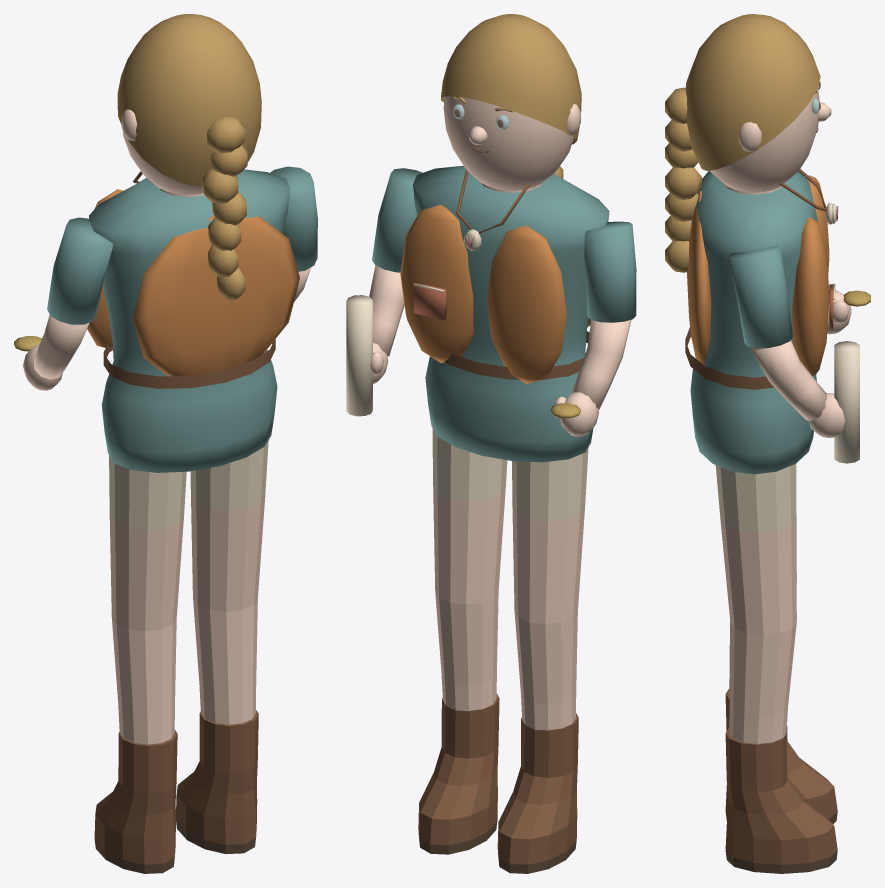
File: SM_NPC_CORAL.glb
3 views of the same model, side by side, from view 1: azimuth 30°, elevation 25°; view 2: azimuth 150°, elevation 25°; view 3: azimuth 270°, elevation 25° (orthographic). The views are drawn at different scales.
Parts seen in each view (by area): view 1: SM_NPC_CORAL_BODY, SM_NPC_CORAL_LEG_L, SM_NPC_CORAL_LEG_R, SM_NPC_CORAL_HAIR, SM_NPC_CORAL_ARM_L, SM_NPC_CORAL_ARM_R, SM_NPC_CORAL_HEAD; view 2: SM_NPC_CORAL_BODY, SM_NPC_CORAL_LEG_L, SM_NPC_CORAL_LEG_R, SM_NPC_CORAL_HAIR, SM_NPC_CORAL_ARM_L, SM_NPC_CORAL_ARM_R, SM_NPC_CORAL_HEAD; view 3: SM_NPC_CORAL_BODY, SM_NPC_CORAL_LEG_R, SM_NPC_CORAL_HAIR, SM_NPC_CORAL_ARM_R, SM_NPC_CORAL_HEAD, SM_NPC_CORAL_LEG_L, SM_NPC_CORAL_ARM_L.
Boxes of the visible parts, x1=… form: SM_NPC_CORAL_BODY: x1=87, y1=169, x2=299, y2=472; SM_NPC_CORAL_LEG_L: x1=94, y1=455, x2=186, y2=873; SM_NPC_CORAL_LEG_R: x1=176, y1=440, x2=268, y2=853; SM_NPC_CORAL_HAIR: x1=117, y1=14, x2=261, y2=299; SM_NPC_CORAL_ARM_L: x1=14, y1=217, x2=112, y2=390; SM_NPC_CORAL_ARM_R: x1=270, y1=166, x2=317, y2=301; SM_NPC_CORAL_HEAD: x1=121, y1=92, x2=260, y2=194; SM_NPC_CORAL_BODY: x1=400, y1=165, x2=609, y2=462; SM_NPC_CORAL_LEG_L: x1=497, y1=447, x2=588, y2=873; SM_NPC_CORAL_LEG_R: x1=418, y1=428, x2=507, y2=854; SM_NPC_CORAL_HAIR: x1=441, y1=14, x2=581, y2=178; SM_NPC_CORAL_ARM_L: x1=550, y1=221, x2=636, y2=436; SM_NPC_CORAL_ARM_R: x1=346, y1=168, x2=422, y2=416; SM_NPC_CORAL_HEAD: x1=443, y1=96, x2=580, y2=190; SM_NPC_CORAL_BODY: x1=685, y1=169, x2=838, y2=474; SM_NPC_CORAL_LEG_R: x1=715, y1=464, x2=837, y2=873; SM_NPC_CORAL_HAIR: x1=665, y1=14, x2=820, y2=272; SM_NPC_CORAL_ARM_R: x1=728, y1=245, x2=859, y2=463; SM_NPC_CORAL_HEAD: x1=710, y1=87, x2=831, y2=192; SM_NPC_CORAL_LEG_L: x1=725, y1=463, x2=837, y2=823; SM_NPC_CORAL_ARM_L: x1=827, y1=289, x2=870, y2=334.
Bounding box in the file's own units: 0.6003 × 1.81 × 0.4113.
